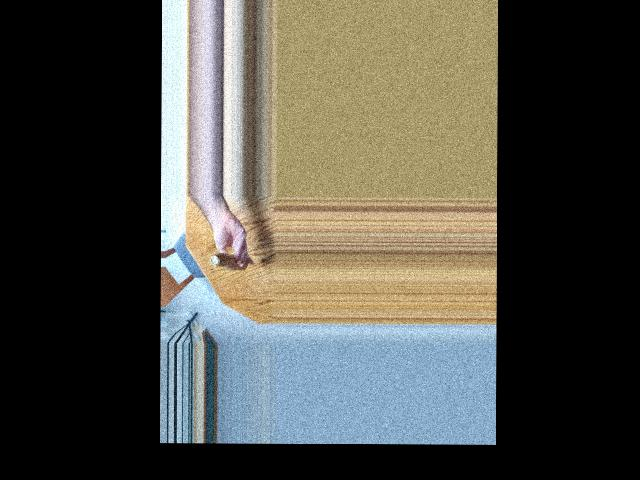sweet_potato: (214, 258, 248, 271)
